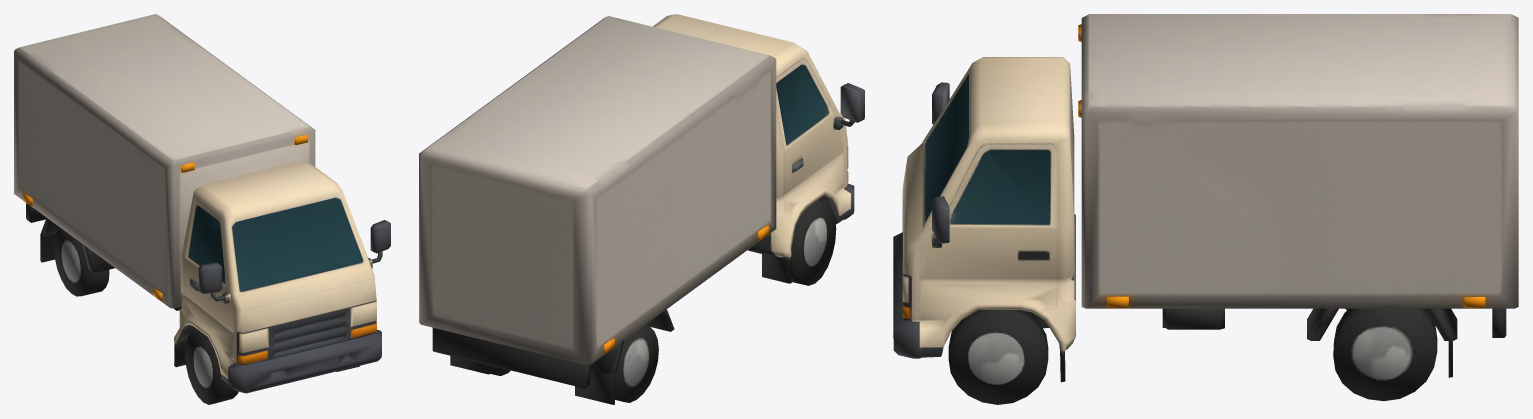
File: VEH_TRUCK_A01.glb
3 renders of one model, left to right at view 1: azimuth 30°, elevation 25°; view 2: azimuth 150°, elevation 25°; view 3: azimuth 270°, elevation 25°, orthographic. The views are drawn at different scales.
Parts seen in each view (by area): view 1: tripo_node_8e7c67cc-8882-42c4-9474-56e4cb8c677c; view 2: tripo_node_8e7c67cc-8882-42c4-9474-56e4cb8c677c; view 3: tripo_node_8e7c67cc-8882-42c4-9474-56e4cb8c677c.
Boxes of the visible parts, x1=… form: tripo_node_8e7c67cc-8882-42c4-9474-56e4cb8c677c: x1=14, y1=14, x2=390, y2=404; tripo_node_8e7c67cc-8882-42c4-9474-56e4cb8c677c: x1=419, y1=14, x2=864, y2=404; tripo_node_8e7c67cc-8882-42c4-9474-56e4cb8c677c: x1=893, y1=14, x2=1518, y2=404.
Size of the model in its own units: 0.4819 by 0.5249 by 0.9995.
1 material, 1 textured.
